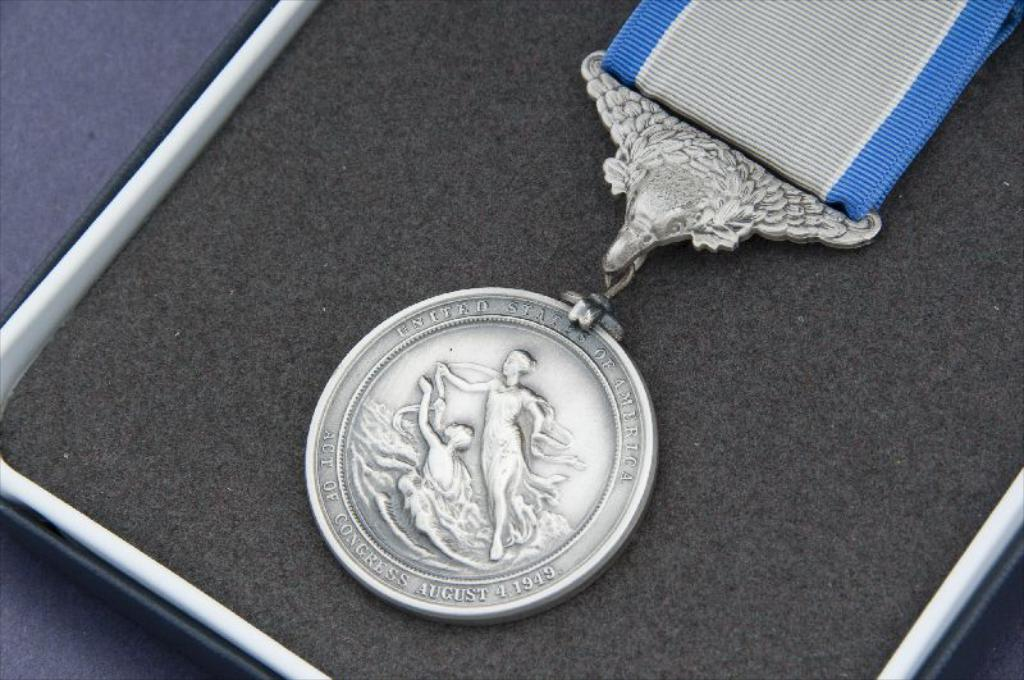Coin: (304, 286, 658, 625)
